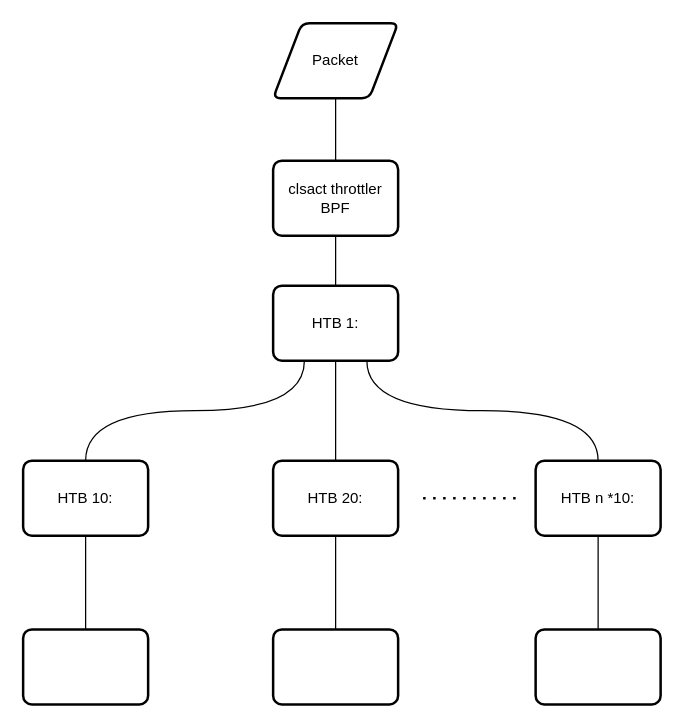
Some shapes in this 683 by 726 pixel diagram are drawn without their labels. Here are the shapes that lost their labels. From the top down, the centre of each, then its label:
the point at 85,666: Prio (default)
the point at 335,666: Netem 1 (min throttling)
the point at 597,666: Netem n-1 (max throttling)
